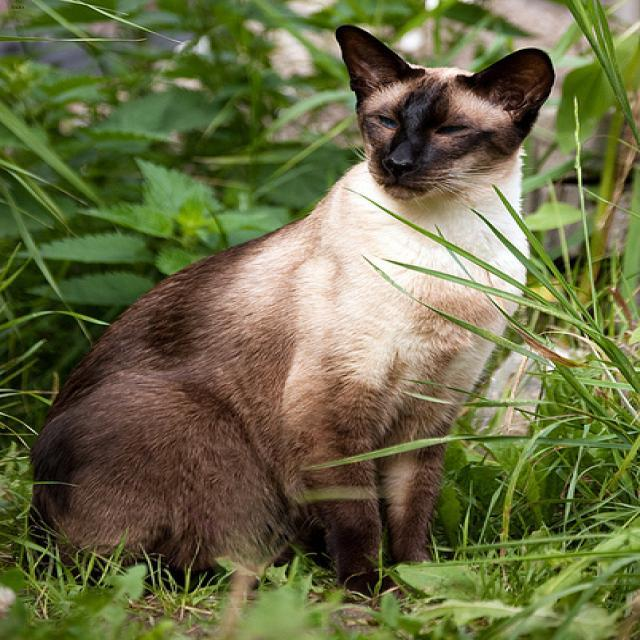Siamese: (330, 18, 563, 203)
